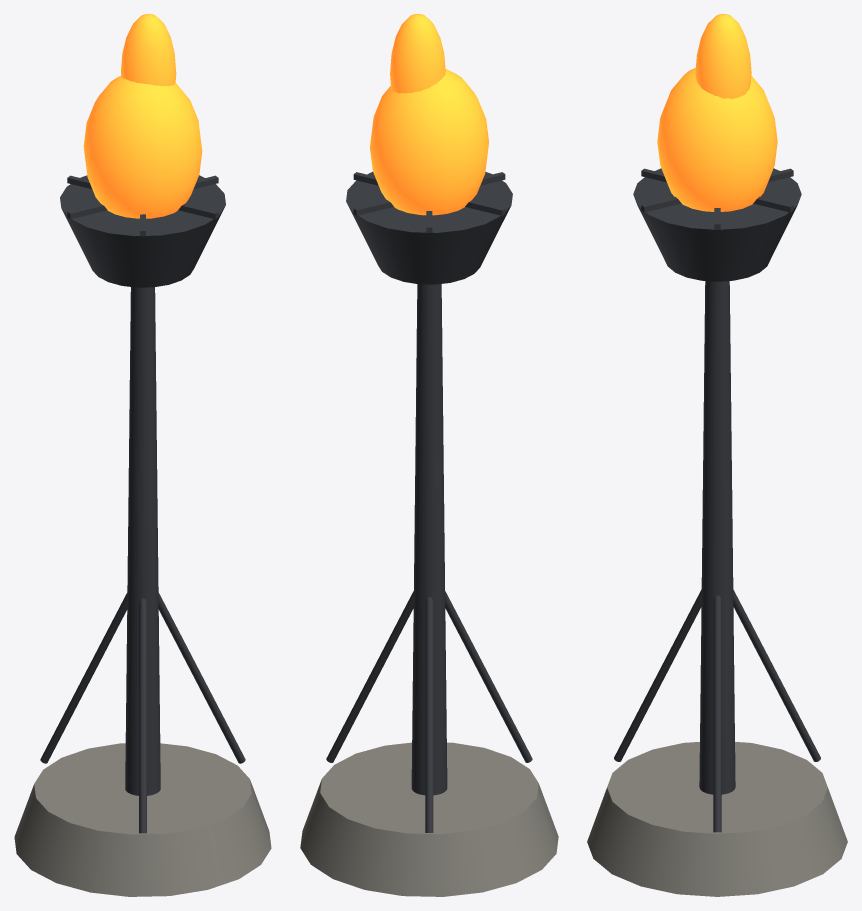
The model's file is fire-beacon-lod0.glb.
3 views of the same model, side by side, from view 1: azimuth 30°, elevation 25°; view 2: azimuth 150°, elevation 25°; view 3: azimuth 270°, elevation 25° (orthographic).
Visible parts, largest first — view 1: plinth, mast, fire, brazier, stay-rod (×3), fire-tip, grate-0, grate-2; view 2: plinth, mast, fire, brazier, stay-rod (×3), fire-tip, grate-0, grate-1; view 3: plinth, mast, fire, brazier, stay-rod (×3), fire-tip, grate-2, grate-1.
Part boxes in pixels (<box>): plinth: <box>14,743,271,896</box>; mast: <box>125,287,160,795</box>; fire: <box>83,76,202,218</box>; brazier: <box>60,175,225,287</box>; stay-rod (×3): <box>40,593,245,833</box>; fire-tip: <box>121,14,176,86</box>; grate-0: <box>67,175,218,219</box>; grate-2: <box>67,175,218,219</box>; plinth: <box>300,742,558,896</box>; mast: <box>411,284,447,795</box>; fire: <box>370,68,488,215</box>; brazier: <box>346,171,512,284</box>; stay-rod (×3): <box>326,591,532,832</box>; fire-tip: <box>390,14,445,93</box>; grate-0: <box>353,172,505,215</box>; grate-1: <box>353,172,505,215</box>; plinth: <box>587,742,847,896</box>; mast: <box>699,281,735,794</box>; fire: <box>657,68,777,211</box>; brazier: <box>633,168,801,281</box>; stay-rod (×3): <box>614,589,820,832</box>; fire-tip: <box>695,14,751,98</box>; grate-2: <box>641,168,793,212</box>; grate-1: <box>641,168,793,212</box>.
Size of the model in its own units: 1.3 by 4.57 by 1.3.
